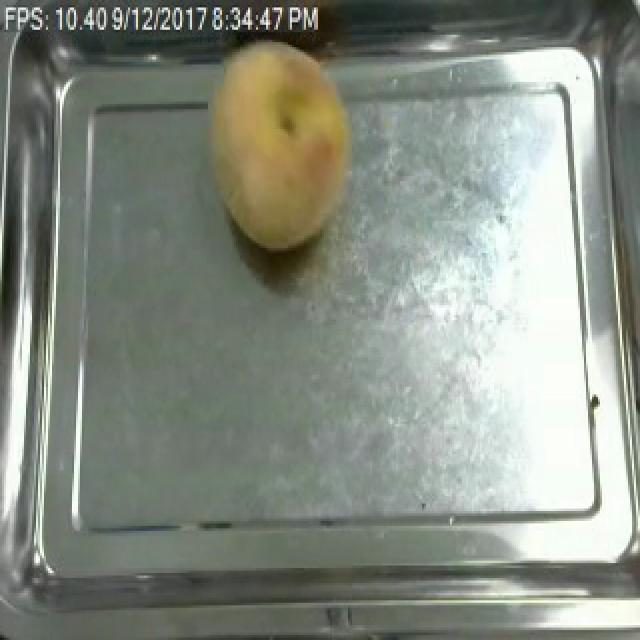Fruit: (200, 22, 364, 258)
